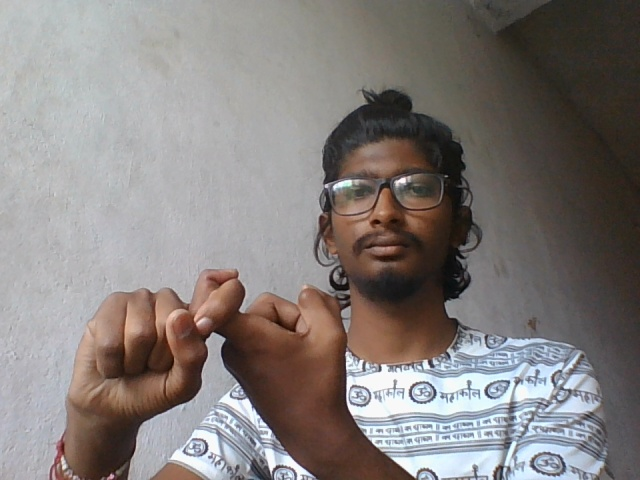ILoveYou: (57, 263, 366, 421)
